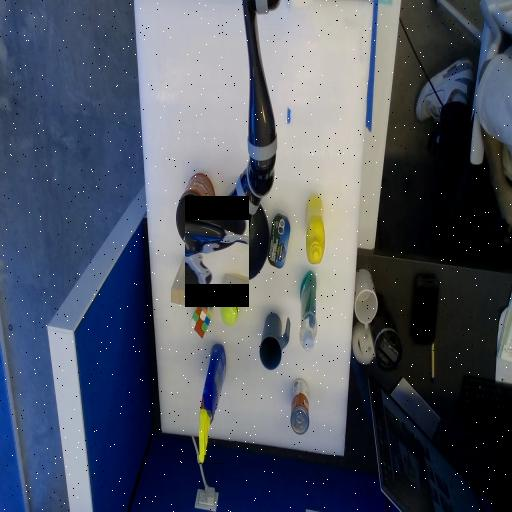bowl: (218, 194, 268, 280)
cleanser: (299, 303, 316, 319)
coffee_can: (176, 174, 214, 245)
jaco: (185, 220, 249, 284)
meat_can: (267, 229, 289, 251)
mug: (259, 313, 289, 369)
mustard_bottle: (305, 219, 324, 238)
rubik: (190, 295, 212, 338)
soup_can: (290, 379, 308, 434)
tennis_ball: (221, 294, 238, 324)
windex: (198, 345, 225, 463)
wooden_block: (170, 268, 195, 293)
workspace: (135, 3, 372, 455)
